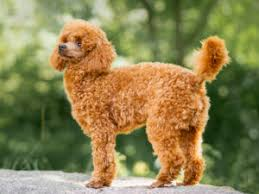Bulldog: (39, 15, 228, 190)
